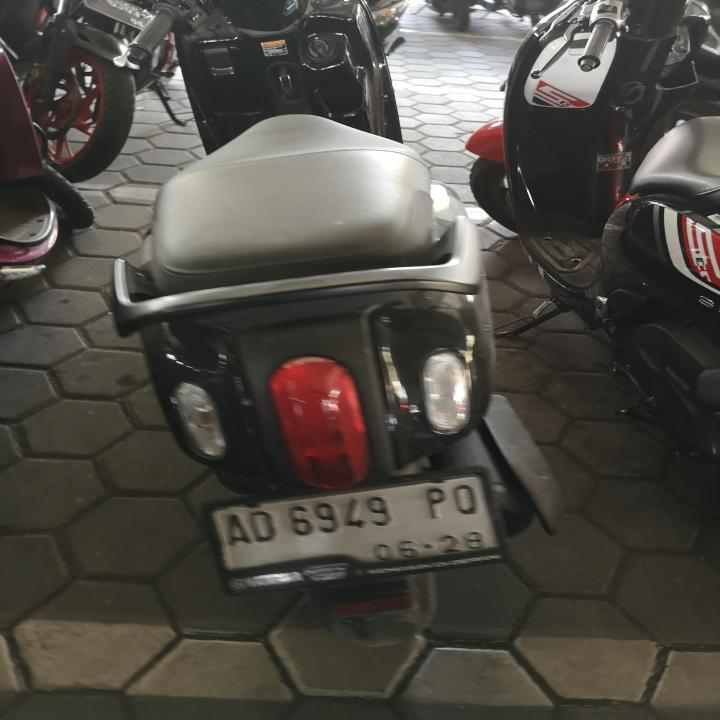plate: (207, 468, 500, 589)
